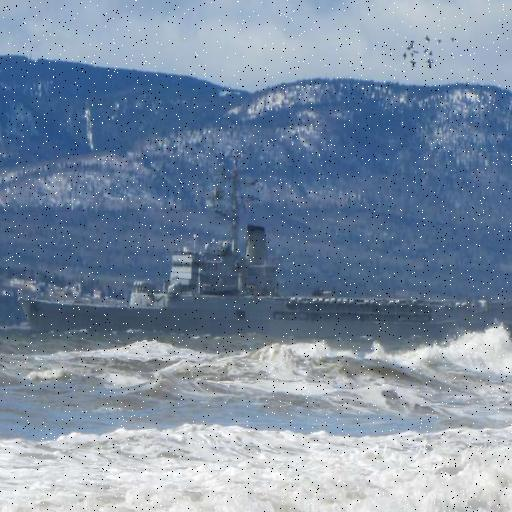Portanaves: (9, 153, 512, 350)
